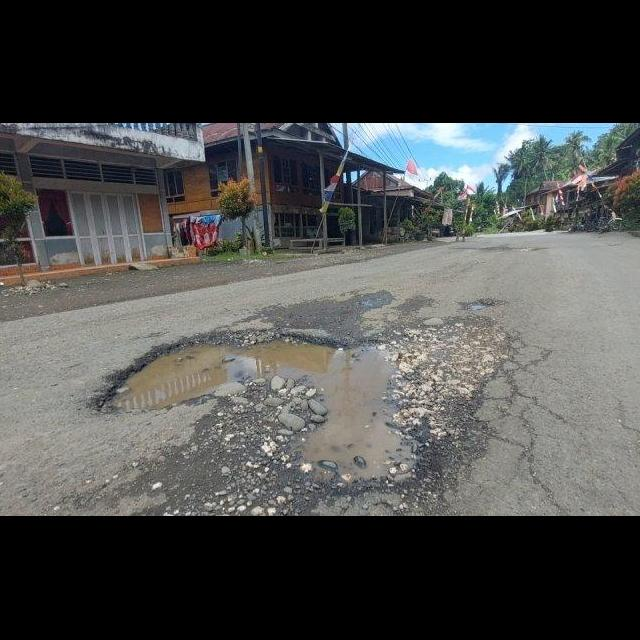lubang_kecil: (82, 322, 433, 489)
retak_kulit_buaya: (477, 340, 565, 510)
